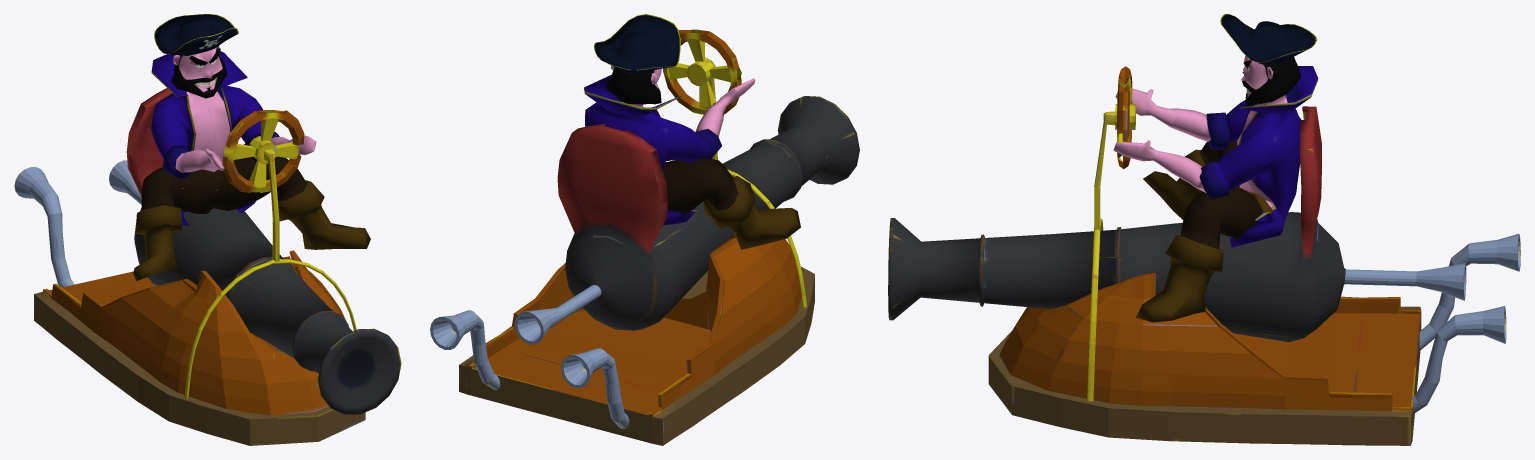
File: pirataGiroDER_000262.obj
3 renders of one model, left to right at view 1: azimuth 30°, elevation 25°; view 2: azimuth 150°, elevation 25°; view 3: azimuth 270°, elevation 25°, orthographic. The views are drawn at different scales.
Visible parts, largest first — view 1: carro_pirata, Pirata_PirataH; view 2: carro_pirata, Pirata_PirataH; view 3: carro_pirata, Pirata_PirataH.
Boxes of the visible parts, x1=… form: carro_pirata: x1=14, y1=88, x2=401, y2=445; Pirata_PirataH: x1=133, y1=14, x2=370, y2=280; carro_pirata: x1=430, y1=29, x2=859, y2=445; Pirata_PirataH: x1=584, y1=14, x2=800, y2=249; carro_pirata: x1=888, y1=66, x2=1520, y2=445; Pirata_PirataH: x1=1113, y1=14, x2=1318, y2=322.
Bounding box in the file's own units: 5.66 × 7.72 × 12.1.
2 materials, 2 textured.
